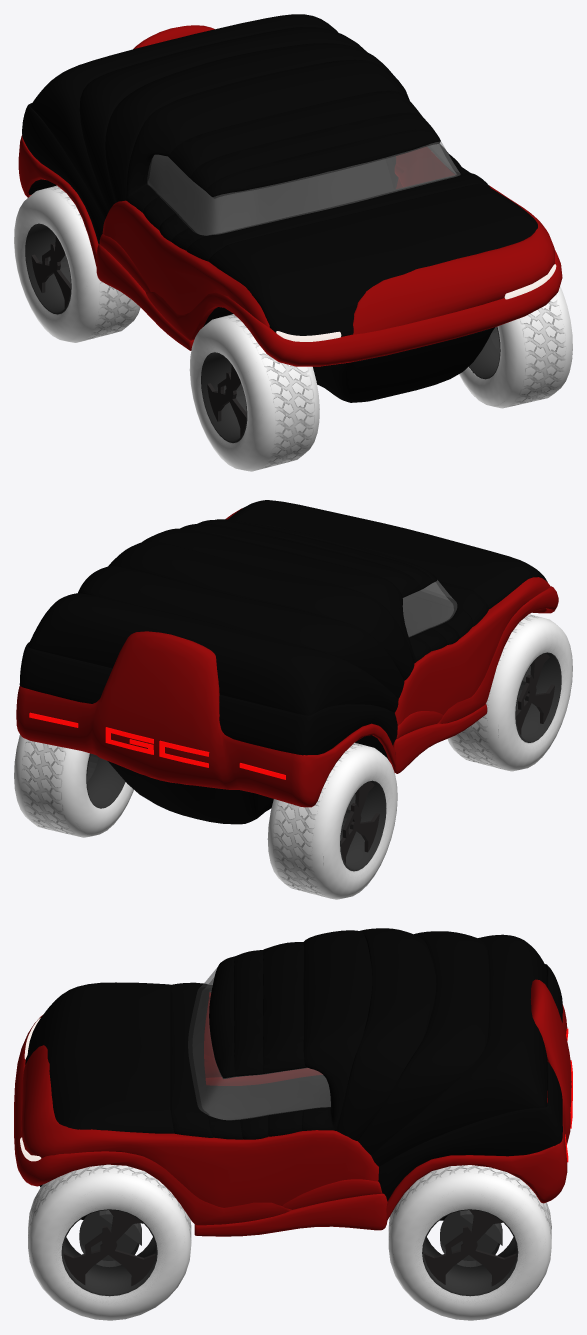
Rendered from J12_game.glb.
The picture shows the model from 3 angles, top to bottom: view 1: azimuth 30°, elevation 25°; view 2: azimuth 150°, elevation 25°; view 3: azimuth 270°, elevation 25°; orthographic projection. The views are drawn at different scales.
Visible parts, largest first — view 1: body_paint_base_game, tire_game (×3), body_paint_trim_1_game, body_paint_sole_game, body_glass_game, body_paint_trim_2_game, rim_barrel_game (×3), body_paint_trim_5_game, rim_face_game (×2), body_paint_trim_4_game, body_paint_trim_3_game, body_light_head_game; view 2: body_paint_base_game, tire_game (×3), body_paint_trim_5_game, body_paint_trim_1_game, body_paint_sole_game, rim_barrel_game (×3), rim_face_game (×2), body_paint_trim_2_game, body_glass_game, body_paint_trim_4_game, body_light_tail_game, body_paint_trim_3_game; view 3: body_paint_base_game, tire_game (×2), body_paint_trim_1_game, body_glass_game, body_paint_trim_5_game, body_paint_trim_2_game, rim_face_game (×2), body_paint_trim_4_game, rim_barrel_game (×2), body_paint_sole_game, brake_disc_game (×2), body_paint_trim_3_game.
Boxes of the visible parts, x1,y1,x2,y2 form: body_paint_base_game: (22,14,537,336); tire_game (×3): (14,185,572,471); body_paint_trim_1_game: (102,147,554,334); body_paint_sole_game: (28,155,494,402); body_glass_game: (147,141,460,235); body_paint_trim_2_game: (145,250,562,366); rim_barrel_game (×3): (25,223,500,442); body_paint_trim_5_game: (18,25,214,266); rim_face_game (×2): (31,235,246,436); body_paint_trim_4_game: (96,178,402,350); body_paint_trim_3_game: (99,163,403,292); body_light_head_game: (276,264,556,341); body_paint_base_game: (19,500,547,755); tire_game (×3): (14,614,572,899); body_paint_trim_5_game: (16,631,396,807); body_paint_trim_1_game: (225,508,550,725); body_paint_sole_game: (107,595,453,824); rim_barrel_game (×3): (86,652,561,871); rim_face_game (×2): (341,653,554,863); body_paint_trim_2_game: (438,586,558,723); body_glass_game: (402,580,456,637); body_paint_trim_4_game: (393,704,487,773); body_light_tail_game: (29,712,285,779); body_paint_trim_3_game: (396,711,443,738); body_paint_base_game: (25,928,562,1200); tire_game (×2): (28,1164,551,1320); body_paint_trim_1_game: (21,992,378,1207); body_glass_game: (188,967,330,1120); body_paint_trim_5_game: (386,979,571,1220); body_paint_trim_2_game: (14,1015,291,1225); rim_face_game (×2): (63,1210,516,1286); body_paint_trim_4_game: (194,1068,387,1236); rim_barrel_game (×2): (61,1209,518,1296); body_paint_sole_game: (39,1075,547,1223); brake_disc_game (×2): (79,1211,499,1267); body_paint_trim_3_game: (277,1072,382,1209).
Size of what is drawn, in the model's own units: 2.71 by 2.1 by 3.94.
15 materials, 1 textured.
